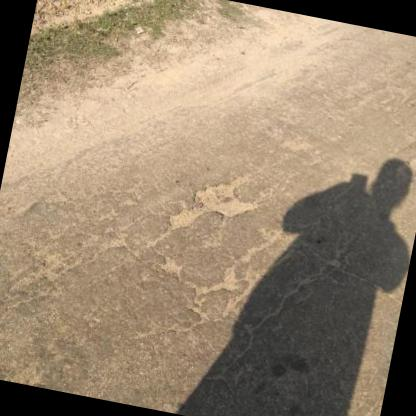pothole: (164, 163, 262, 244), (158, 253, 186, 279)
